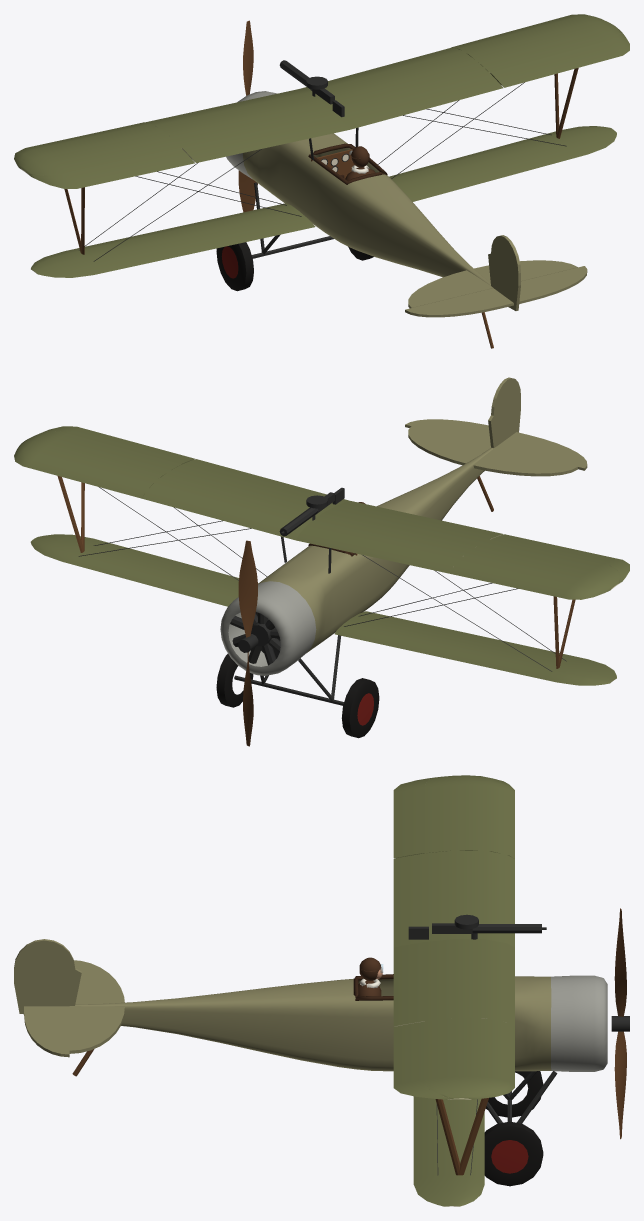
File: nieuport_11.glb
3 views of the same model, one above another, from view 1: azimuth 30°, elevation 25°; view 2: azimuth 150°, elevation 25°; view 3: azimuth 270°, elevation 25° (orthographic). The views are drawn at different scales.
Parts seen in each view (by area): view 1: Fuselage, Wing_Upper_L, Wing_Upper_R, Wing_Lower_L, Wing_Lower_R, Elevator, Aileron_L, Aileron_R, Rudder, Stabilizer_L, Wheels, Wires (+7 smaller); view 2: Wing_Upper_L, Wing_Upper_R, Fuselage, Wing_Lower_L, Wing_Lower_R, Cowling, Elevator, Wheels, PropBlades, Stabilizer_L, Stabilizer_R, Rudder (+7 smaller); view 3: Fuselage, Wing_Upper_R, Wing_Upper_L, Wing_Lower_R, Cowling, Wheels, Rudder, Aileron_R, Aileron_L, PropBlades, Stabilizer_R, Elevator (+5 smaller).
Part boxes in pixels (bbox=[...]): Fuselage: bbox=[243, 133, 490, 285]; Wing_Upper_L: bbox=[14, 89, 349, 175]; Wing_Upper_R: bbox=[300, 14, 620, 129]; Wing_Lower_L: bbox=[31, 203, 315, 277]; Wing_Lower_R: bbox=[389, 126, 616, 201]; Elevator: bbox=[405, 266, 587, 317]; Aileron_L: bbox=[28, 148, 194, 188]; Aileron_R: bbox=[490, 30, 629, 87]; Rudder: bbox=[488, 235, 520, 310]; Stabilizer_L: bbox=[408, 270, 492, 308]; Wheels: bbox=[216, 242, 373, 291]; Wires: bbox=[79, 82, 566, 261]; Wing_Upper_L: bbox=[296, 501, 620, 599]; Wing_Upper_R: bbox=[14, 431, 349, 540]; Fuselage: bbox=[258, 447, 493, 653]; Wing_Lower_L: bbox=[335, 611, 616, 685]; Wing_Lower_R: bbox=[30, 534, 238, 606]; Cowling: bbox=[220, 581, 316, 675]; Elevator: bbox=[405, 419, 587, 470]; Wheels: bbox=[216, 653, 379, 738]; PropBlades: bbox=[238, 540, 258, 746]; Stabilizer_L: bbox=[473, 446, 577, 476]; Stabilizer_R: bbox=[408, 426, 490, 465]; Rudder: bbox=[488, 377, 520, 448]; Fuselage: bbox=[75, 976, 551, 1071]; Wing_Upper_R: bbox=[393, 939, 514, 1099]; Wing_Upper_L: bbox=[393, 775, 514, 947]; Wing_Lower_R: bbox=[413, 1096, 484, 1206]; Cowling: bbox=[551, 975, 607, 1071]; Wheels: bbox=[484, 1071, 543, 1186]; Rudder: bbox=[14, 939, 81, 1014]; Aileron_R: bbox=[393, 1021, 452, 1099]; Aileron_L: bbox=[393, 777, 435, 858]; PropBlades: bbox=[611, 908, 629, 1139]; Stabilizer_R: bbox=[69, 1006, 124, 1053]; Elevator: bbox=[24, 1006, 69, 1057].
Bounding box in the file's own units: 7.55 × 2.63 × 6.09.
